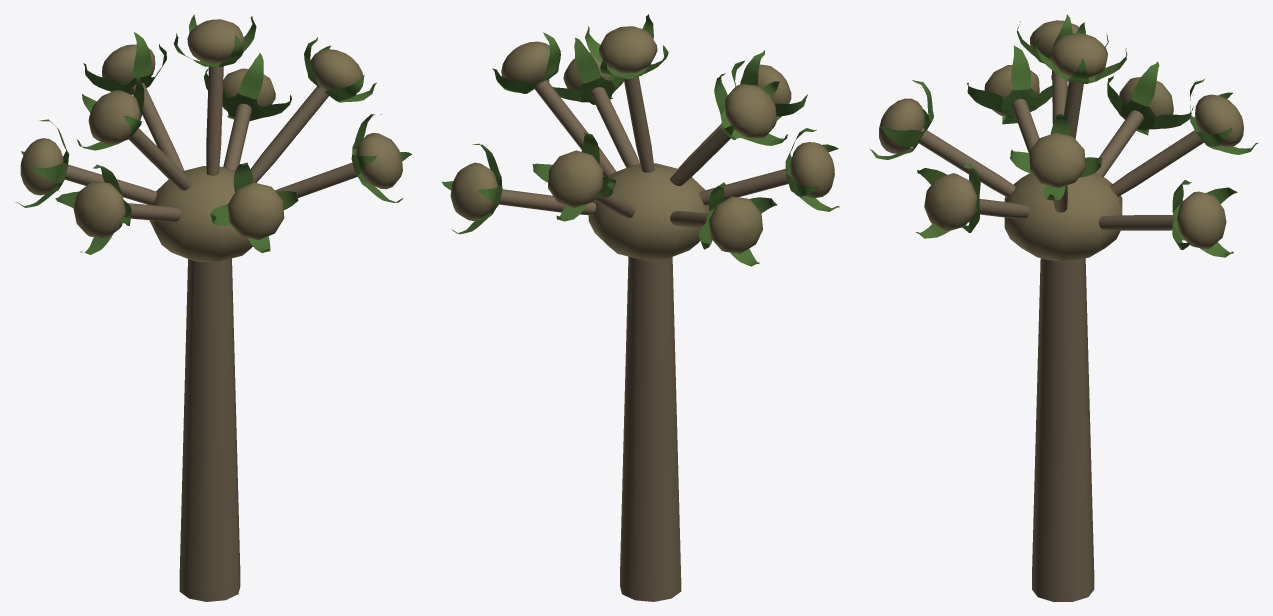
Rendered from Stems with leaves.fbx.
The picture shows the model from 3 angles, left to right: view 1: azimuth 30°, elevation 25°; view 2: azimuth 150°, elevation 25°; view 3: azimuth 270°, elevation 25°; orthographic projection.
Visible parts, largest first — view 1: polySurface53, polySurface46, group116_pasted__group113_pasted__group102_pasted__pasted__p; view 2: polySurface53, polySurface46, group116_pasted__group113_pasted__group102_pasted__pasted__p; view 3: polySurface53, polySurface46, group116_pasted__group113_pasted__group102_pasted__pasted__p.
Boxes of the visible parts, bbox=[...] form: polySurface53: bbox=[64, 63, 357, 601]; polySurface46: bbox=[20, 19, 402, 262]; group116_pasted__group113_pasted__group102_pasted__pasted__p: bbox=[15, 14, 412, 254]; polySurface53: bbox=[499, 76, 791, 601]; polySurface46: bbox=[450, 26, 834, 260]; group116_pasted__group113_pasted__group102_pasted__pasted__p: bbox=[442, 14, 839, 266]; polySurface53: bbox=[918, 70, 1203, 601]; polySurface46: bbox=[879, 20, 1243, 261]; group116_pasted__group113_pasted__group102_pasted__pasted__p: bbox=[870, 14, 1257, 257].
Bounding box in the file's own units: 18.96 × 31.52 × 19.83.
